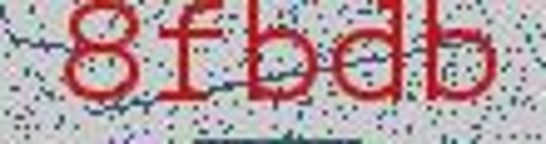8: (59, 2, 143, 118)
b: (415, 1, 504, 109), (239, 1, 321, 115)
d: (327, 1, 412, 117)
f: (152, 1, 231, 114)
